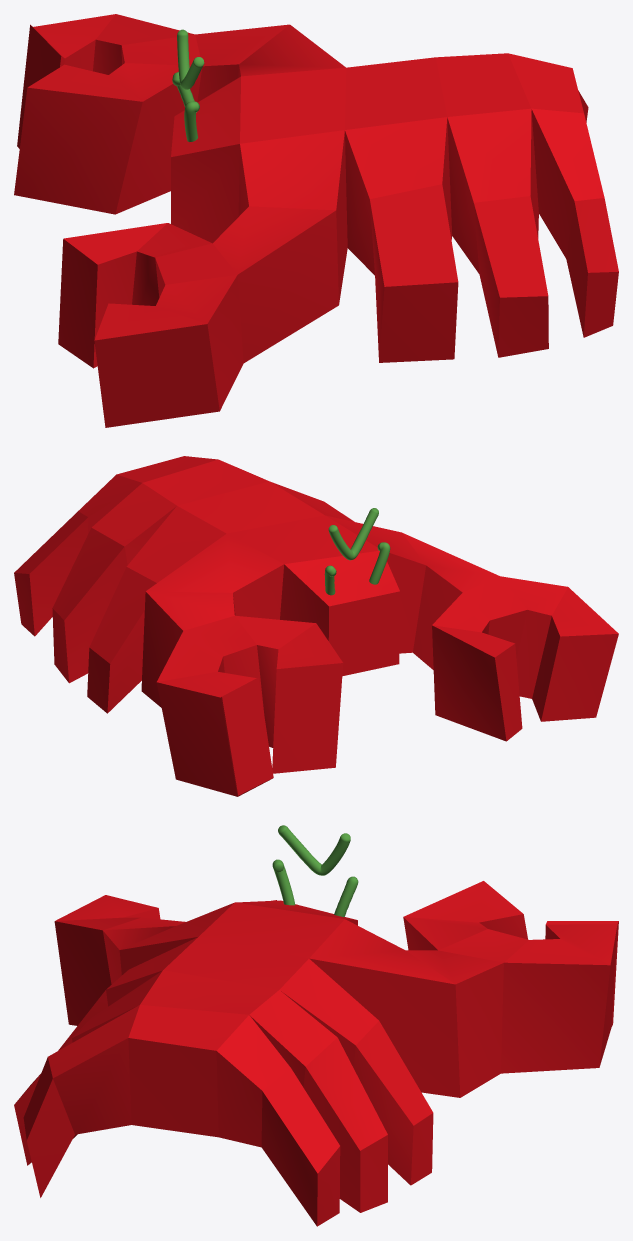
The model's file is chasmfiend.obj.
The picture shows the model from 3 angles, top to bottom: view 1: azimuth 30°, elevation 25°; view 2: azimuth 150°, elevation 25°; view 3: azimuth 270°, elevation 25°; orthographic projection. The views are drawn at different scales.
Visible parts, largest first — view 1: s.0058, s.0061; view 2: s.0058, s.0061; view 3: s.0058, s.0061, s.0060.
Boxes of the visible parts, x1=… form: s.0058: x1=14, y1=14, x2=618, y2=427; s.0061: x1=177, y1=29, x2=204, y2=89; s.0058: x1=14, y1=456, x2=618, y2=796; s.0061: x1=328, y1=508, x2=378, y2=560; s.0058: x1=14, y1=881, x2=618, y2=1226; s.0061: x1=278, y1=825, x2=350, y2=875; s.0060: x1=272, y1=859, x2=295, y2=905.
Bounding box in the file's own units: 1.7 × 0.7125 × 1.53.
